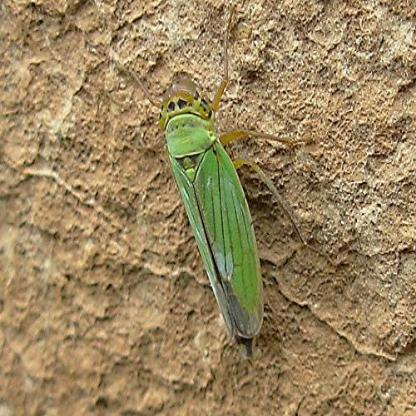Green-Leafhopper: (130, 15, 294, 343)
